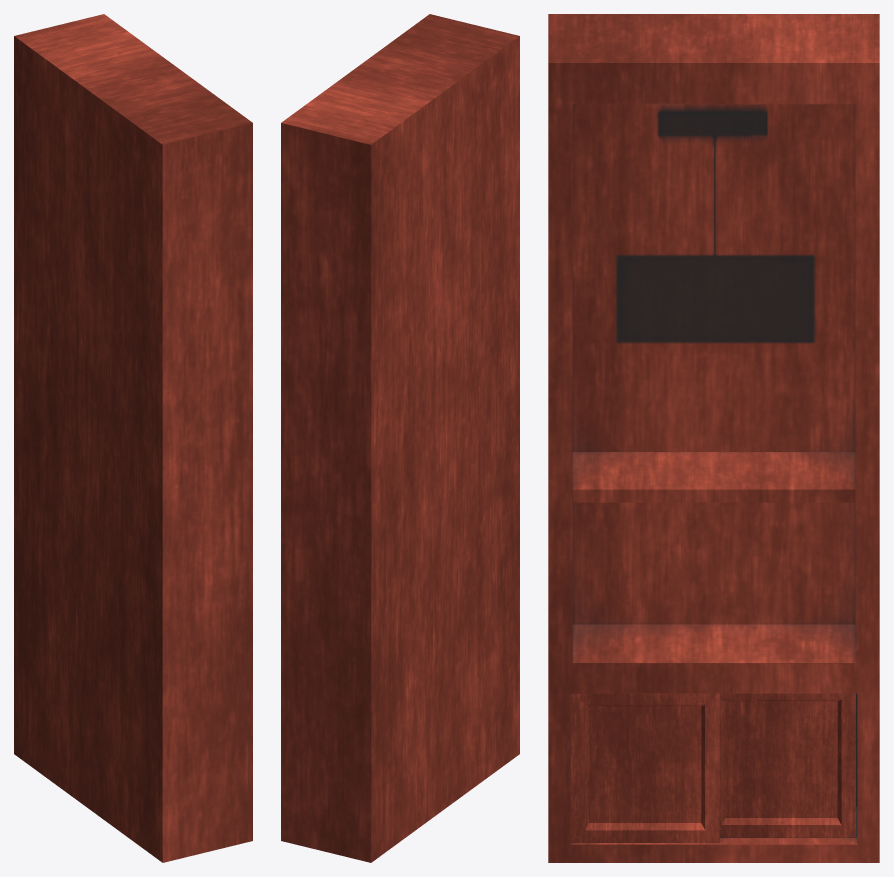
Rendered from SM_Bookcase.fbx.
3 renders of one model, left to right at view 1: azimuth 30°, elevation 25°; view 2: azimuth 150°, elevation 25°; view 3: azimuth 270°, elevation 25°, orthographic. The views are drawn at different scales.
Visible parts, largest first — view 1: SM_Bookcase; view 2: SM_Bookcase; view 3: SM_Bookcase.
Boxes of the visible parts, x1=… form: SM_Bookcase: x1=14, y1=14, x2=252, y2=862; SM_Bookcase: x1=281, y1=14, x2=519, y2=862; SM_Bookcase: x1=548, y1=14, x2=879, y2=862.
Bounding box in the file's own units: 33.05 × 94.42 × 251.
Materials: 1 (1 with a texture image).
